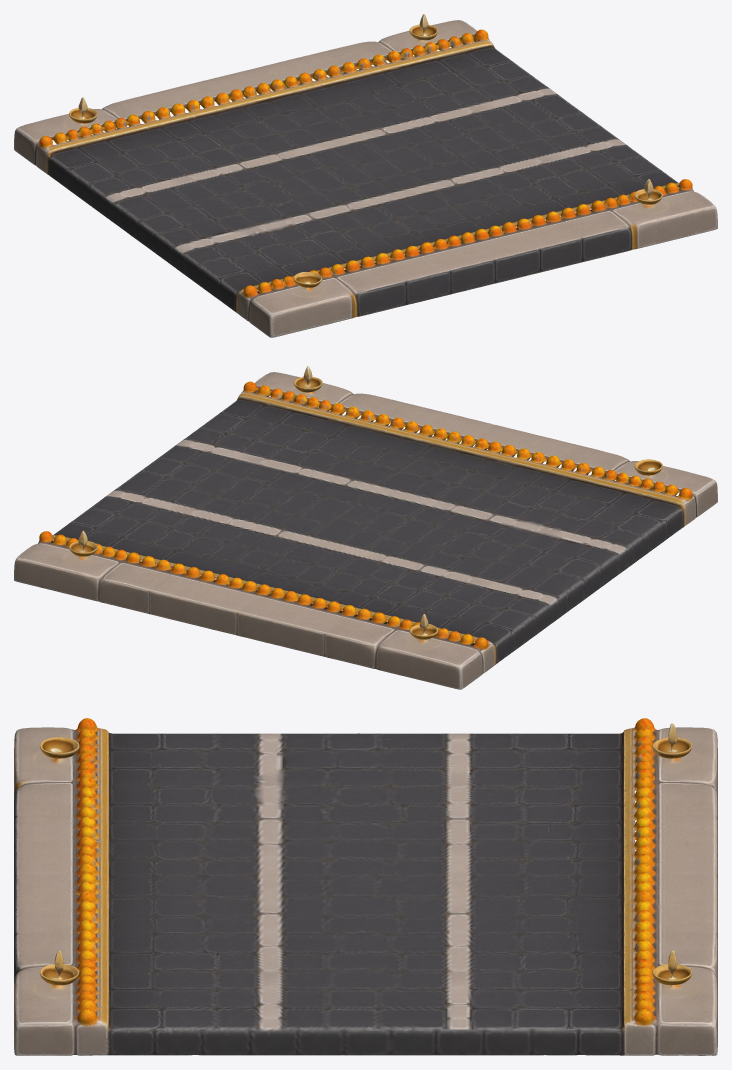
Rendered from marigold_lantern_path.glb.
The picture shows the model from 3 angles, top to bottom: view 1: azimuth 30°, elevation 25°; view 2: azimuth 150°, elevation 25°; view 3: azimuth 270°, elevation 25°; orthographic projection. The views are drawn at different scales.
Bounding box in the file's own units: 1.9 × 0.207 × 1.89.
Materials: 1 (1 with a texture image).
